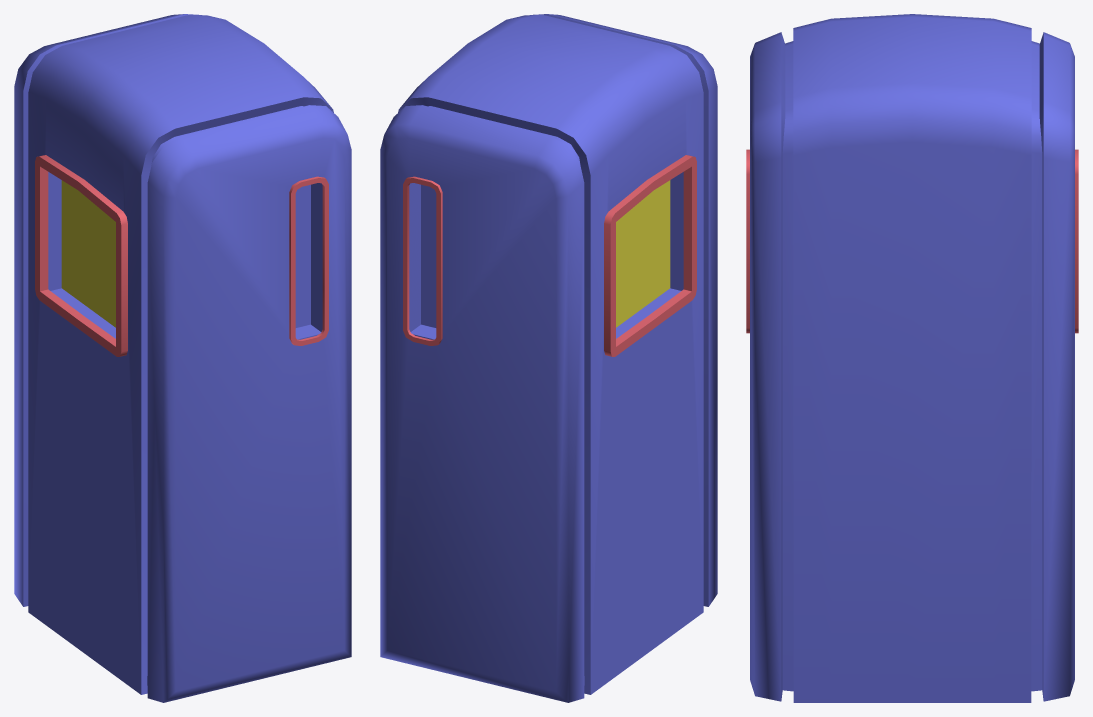
Rendered from guz.fbx.
3 renders of one model, left to right at view 1: azimuth 30°, elevation 25°; view 2: azimuth 150°, elevation 25°; view 3: azimuth 270°, elevation 25°, orthographic. The views are drawn at different scales.
Visible parts, largest first — view 1: Куб.006; view 2: Куб.006; view 3: Куб.006.
Part boxes in pixels (<box>): Куб.006: <box>14,14,351,702</box>; Куб.006: <box>380,14,717,702</box>; Куб.006: <box>746,14,1078,702</box>.
Size of the model in its own units: 50.68 by 136 by 68.24.
